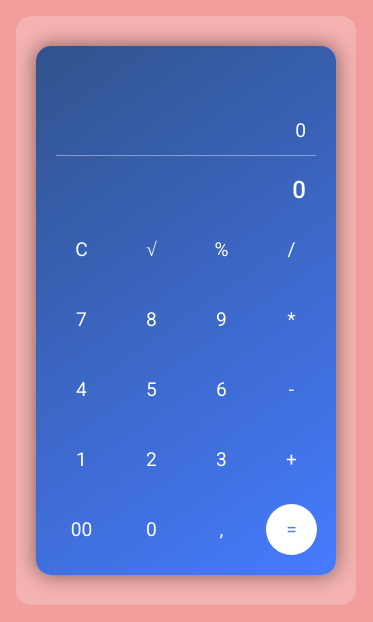
Test case: Calculator › should reset input and result when "C" is clicked
Click the button with test id "btn-1": click(82, 459) [56,434,107,484]
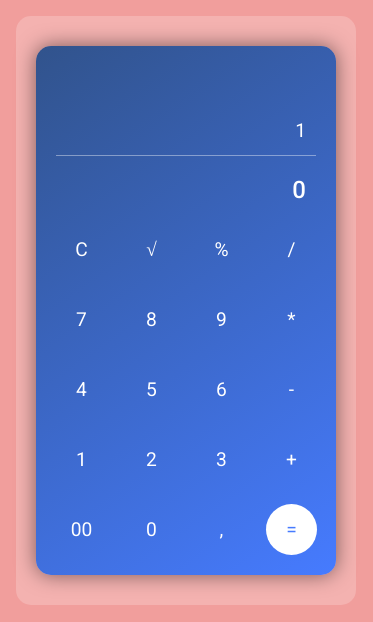
Click the button with test id "btn-C": click(82, 249) [56,224,107,274]
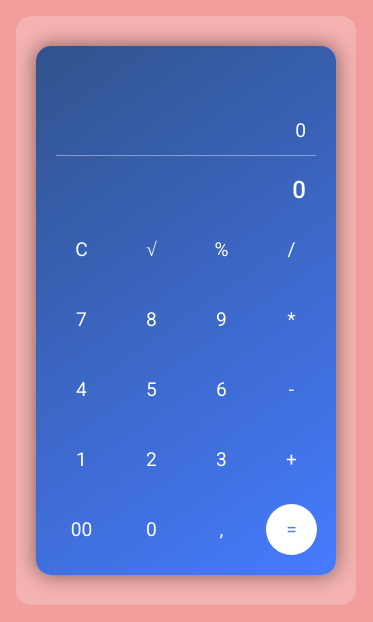
Check: the text with test id "result-display" reads "0", box [292,176,306,204]
Check: the text with test id "input-display" reads "0", box [295,118,306,142]
